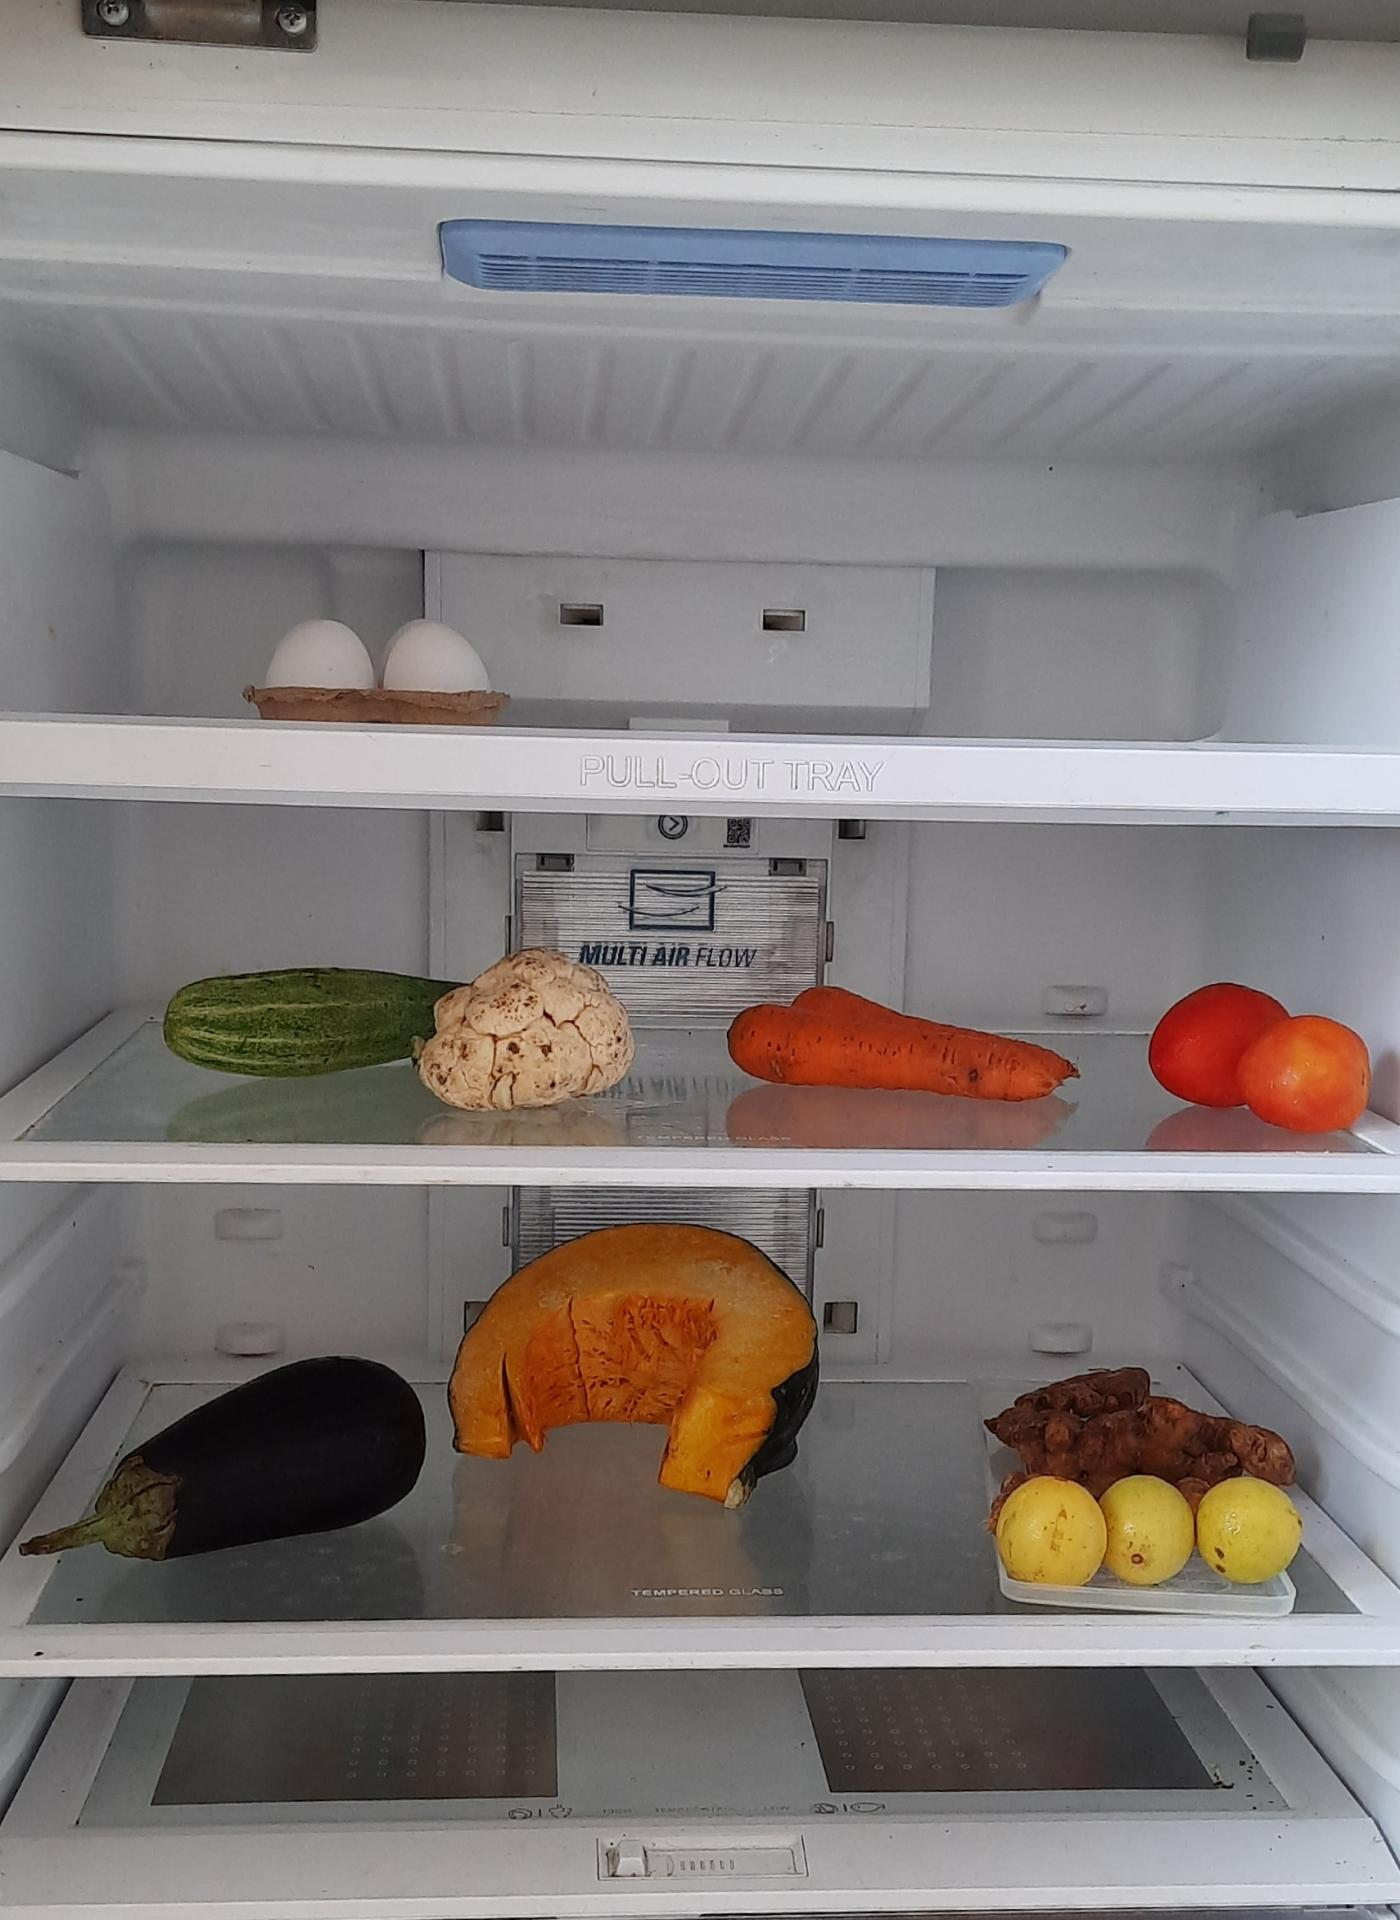brinjal: (52, 1345, 437, 1549)
carrots: (722, 969, 1075, 1093)
cauliflower: (429, 953, 634, 1125)
cucumber: (157, 973, 492, 1076)
egg: (252, 605, 508, 714)
ginger: (987, 1352, 1308, 1483)
lemon: (990, 1467, 1309, 1586)
pumpkin: (447, 1215, 817, 1507)
tomato: (1154, 976, 1388, 1133)
